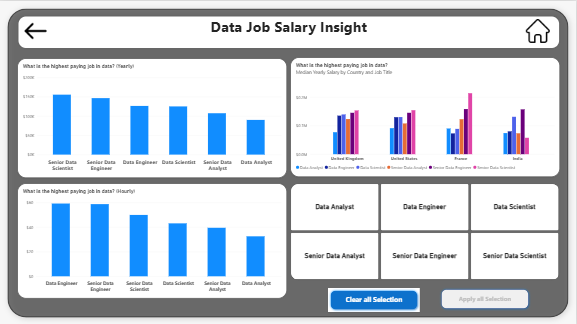

The dashboard page shown, as its layout file describes it:
{"tool":"powerbi","page":{"name":"Salary Insight","canvas":[1920,1080],"ordinal":1},"visuals":[{"type":"shape","box":[0,0,1920,1080],"z":0},{"type":"columnChart","title":"What is the highest paying job in data? (Hourly)","fields":{"Y":["Median(job_postings_flat.salary_hour_avg)"],"Category":["job_postings_flat.job_title_short"]},"box":[80,607.5,882.5,385],"z":1000},{"type":"clusteredColumnChart","title":"What is the highest paying job in data?","fields":{"Category":["job_postings_flat.job_country"],"Y":["Median(job_postings_flat.salary_year_avg)"],"Series":["job_postings_flat.job_title_short"]},"box":[972.5,187.5,882.5,400],"z":2000},{"type":"actionButton","box":[1095,955,300,80],"z":3000},{"type":"actionButton","box":[1457.5,952.5,300,80],"z":4000},{"type":"columnChart","title":"What is the highest paying job in data? (Yearly)","fields":{"Category":["job_postings_flat.job_title_short"],"Y":["Median(job_postings_flat.salary_year_avg)"]},"box":[80,190,882.5,400],"z":5000},{"type":"textbox","box":[80,47.5,1775,115],"z":6000},{"type":"advancedSlicerVisual","fields":{"Values":["job_postings_flat.job_title_short"]},"box":[972.5,607.5,882.5,325],"z":7000},{"type":"image","box":[62.5,60,160,80],"z":8000},{"type":"image","box":[1727.5,60,110,80],"z":9000}]}

Visuals, with their boxes in screenshot pixels (x1, y1, x2, y2), scaled from the page's 1920x1080 canvas onto the 577x324 screenshot:
shape: detection(0, 0, 576, 323)
"What is the highest paying job in data? (Hourly)" columnChart: detection(24, 182, 289, 298)
"What is the highest paying job in data?" clusteredColumnChart: detection(292, 56, 557, 176)
actionButton: detection(329, 286, 419, 310)
actionButton: detection(438, 286, 528, 310)
"What is the highest paying job in data? (Yearly)" columnChart: detection(24, 57, 289, 177)
textbox: detection(24, 14, 557, 49)
advancedSlicerVisual - job_postings_flat.job_title_short: detection(292, 182, 557, 280)
image: detection(19, 18, 67, 42)
image: detection(519, 18, 552, 42)
